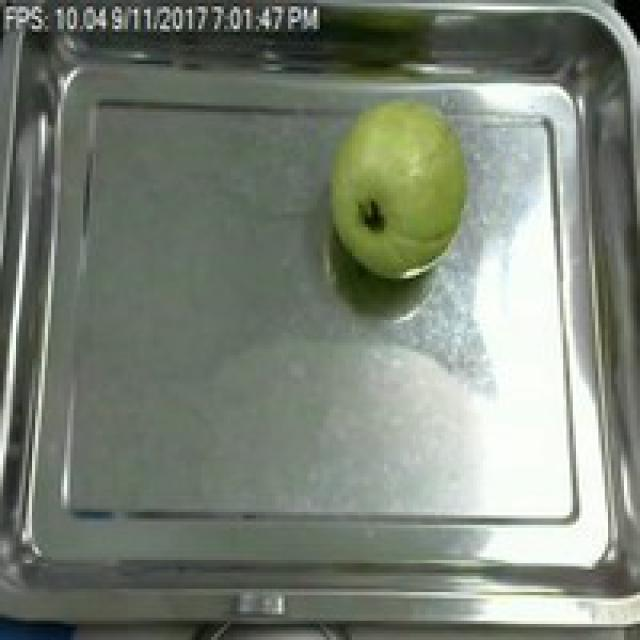Fruit: (310, 83, 480, 288)
